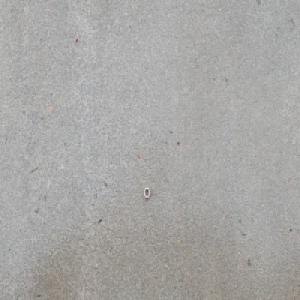Nut: (143, 186, 150, 199)
